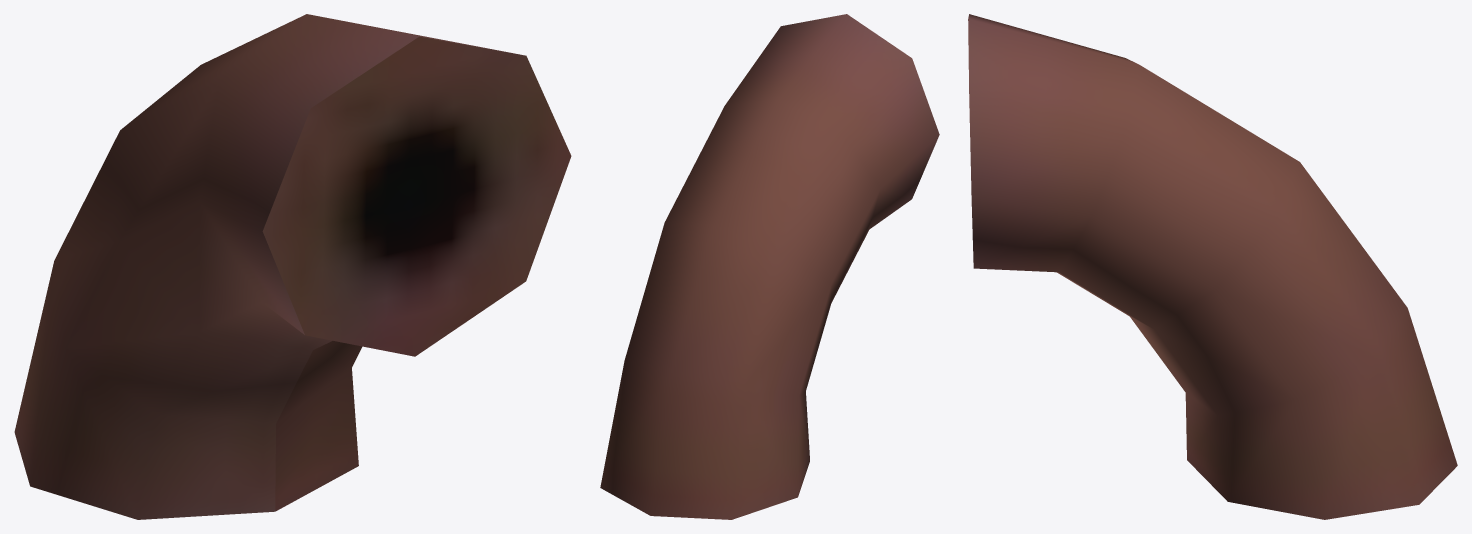
3 views of the same model, side by side, from view 1: azimuth 30°, elevation 25°; view 2: azimuth 150°, elevation 25°; view 3: azimuth 270°, elevation 25° (orthographic). The views are drawn at different scales.
Parts seen in each view (by area): view 1: body0_model0_lod0_mesh0; view 2: body0_model0_lod0_mesh0; view 3: body0_model0_lod0_mesh0.
Part boxes in pixels (x1,y1,x2,y2): body0_model0_lod0_mesh0: [14, 14, 571, 519]; body0_model0_lod0_mesh0: [600, 14, 939, 519]; body0_model0_lod0_mesh0: [968, 14, 1457, 519].
Size of the model in its own units: 4.13 by 7.51 by 7.46.
Materials: 1 (1 with a texture image).
